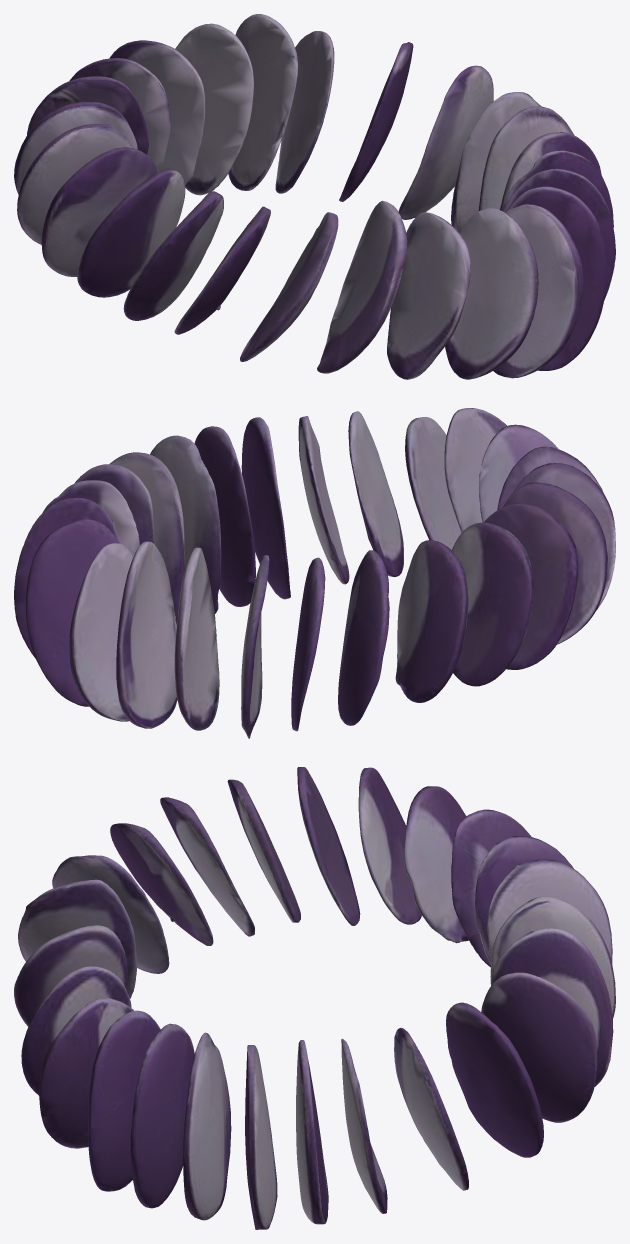
File: spiral-ring-lq.glb
3 renders of one model, top to bottom at view 1: azimuth 30°, elevation 25°; view 2: azimuth 150°, elevation 25°; view 3: azimuth 270°, elevation 25°, orthographic. The views are drawn at different scales.
Parts seen in each view (by area): view 1: tripo_node_00fff819-9091-4393-93f2-61bf9943b9b6; view 2: tripo_node_00fff819-9091-4393-93f2-61bf9943b9b6; view 3: tripo_node_00fff819-9091-4393-93f2-61bf9943b9b6.
Boxes of the visible parts, x1,y1,x2,y2 form: tripo_node_00fff819-9091-4393-93f2-61bf9943b9b6: [14, 14, 615, 379]; tripo_node_00fff819-9091-4393-93f2-61bf9943b9b6: [14, 408, 615, 738]; tripo_node_00fff819-9091-4393-93f2-61bf9943b9b6: [14, 767, 615, 1229].
Size of the model in its own units: 0.9996 by 0.4366 by 0.9512.
1 material, 1 textured.
